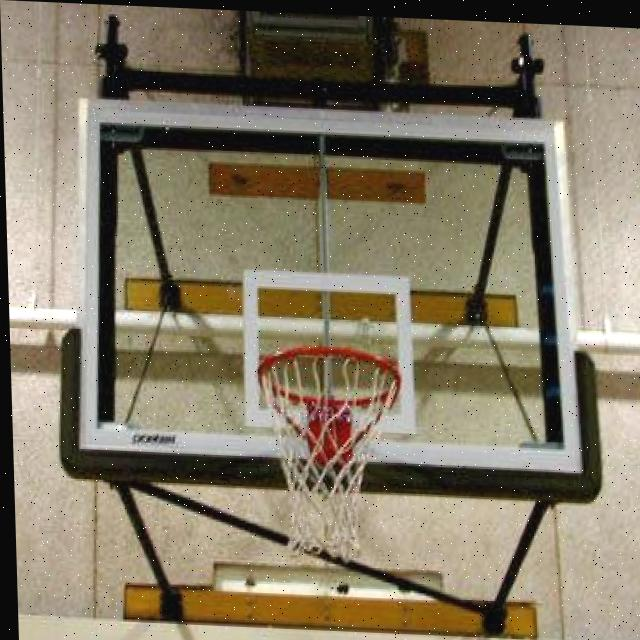hoop: (250, 335, 416, 566)
